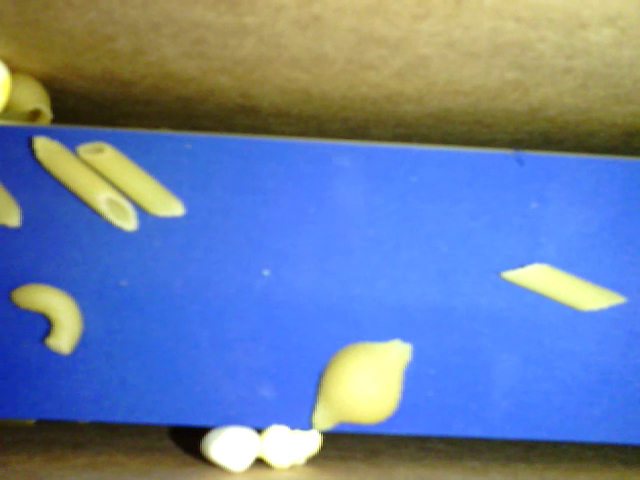elbow: (11, 284, 88, 357)
penne: (33, 137, 143, 233), (77, 139, 186, 219), (500, 261, 630, 317)
shell: (310, 333, 414, 434), (2, 72, 60, 131)
